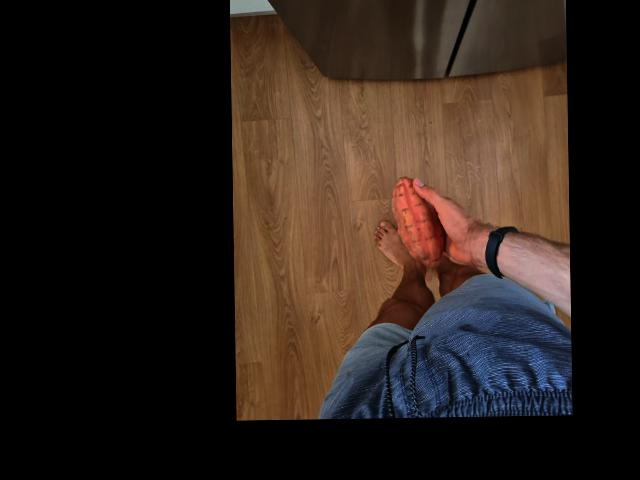sweet_potato: (392, 179, 443, 267)
